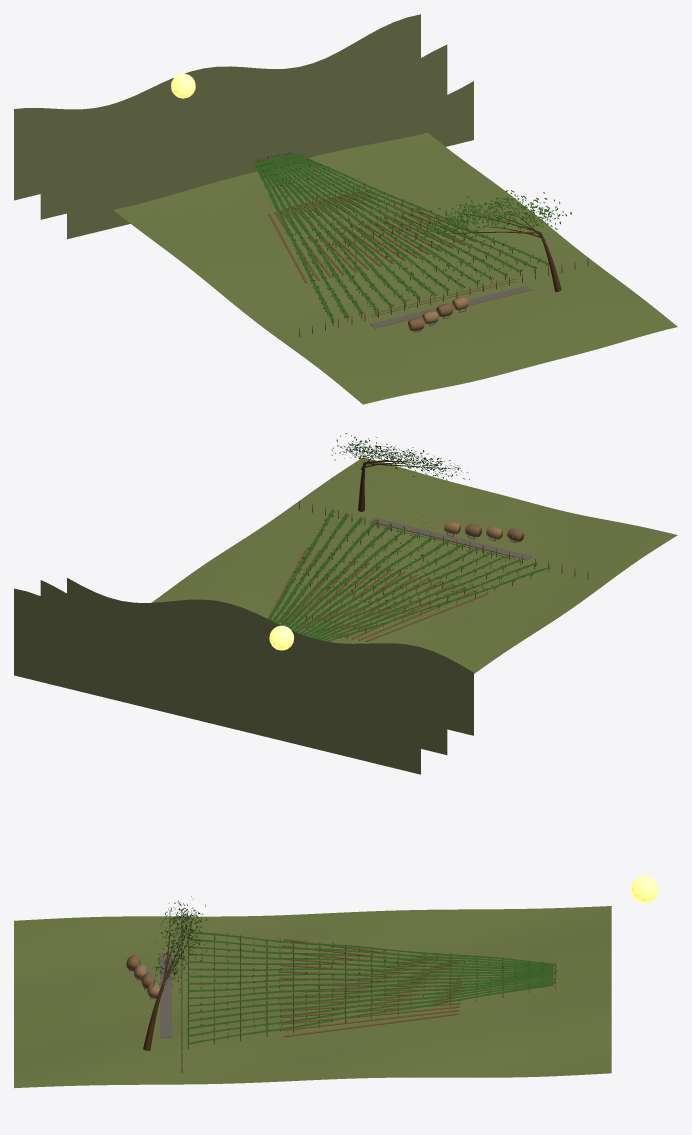
File: vineyard_landscape.glb
3 renders of one model, top to bottom at view 1: azimuth 30°, elevation 25°; view 2: azimuth 150°, elevation 25°; view 3: azimuth 270°, elevation 25°, orthographic. The views are drawn at different scales.
Parts seen in each view (by area): view 1: LandscapeTerrain, DistantHills, VineyardCanopyMass, VineyardRowSoil, VineyardFoliage, LandscapeTreeFoliage, GravelRoad, LandscapeTreeWood, BarrelWood; view 2: DistantHills, LandscapeTerrain, VineyardCanopyMass, VineyardRowSoil, VineyardFoliage, LandscapeTreeFoliage, GravelRoad, BarrelWood, LandscapeTreeWood; view 3: LandscapeTerrain, VineyardCanopyMass, VineyardRowSoil, LandscapeTreeFoliage, VineyardFoliage, GravelRoad, LandscapeTreeWood, BarrelWood, SunsetDisc.
Part boxes in pixels (x1,y1,x2,y2): LandscapeTerrain: (113,133,677,404); DistantHills: (14,14,473,239); VineyardCanopyMass: (253,153,548,320); VineyardRowSoil: (268,190,476,283); VineyardFoliage: (252,151,549,322); LandscapeTreeFoliage: (421,190,571,245); GravelRoad: (369,286,532,328); LandscapeTreeWood: (442,212,561,291); BarrelWood: (408,297,468,331); DistantHills: (14,578,473,774); LandscapeTerrain: (151,457,677,673); VineyardCanopyMass: (268,511,550,641); VineyardRowSoil: (268,549,488,641); VineyardFoliage: (271,509,550,641); LandscapeTreeFoliage: (331,433,469,480); GravelRoad: (370,517,532,560); BarrelWood: (444,521,524,541); LandscapeTreeWood: (358,454,455,511); LandscapeTerrain: (14,906,611,1088); VineyardCanopyMass: (188,931,553,1044); VineyardRowSoil: (279,938,462,1037); LandscapeTreeFoliage: (152,896,208,992); VineyardFoliage: (187,931,556,1045); GravelRoad: (160,953,171,1037); LandscapeTreeWood: (143,912,194,1050); BarrelWood: (126,955,160,998); SunsetDisc: (631,876,658,902).
Size of the model in its own units: 62 by 15.8 by 80.
Materials: 19 (1 with a texture image).
